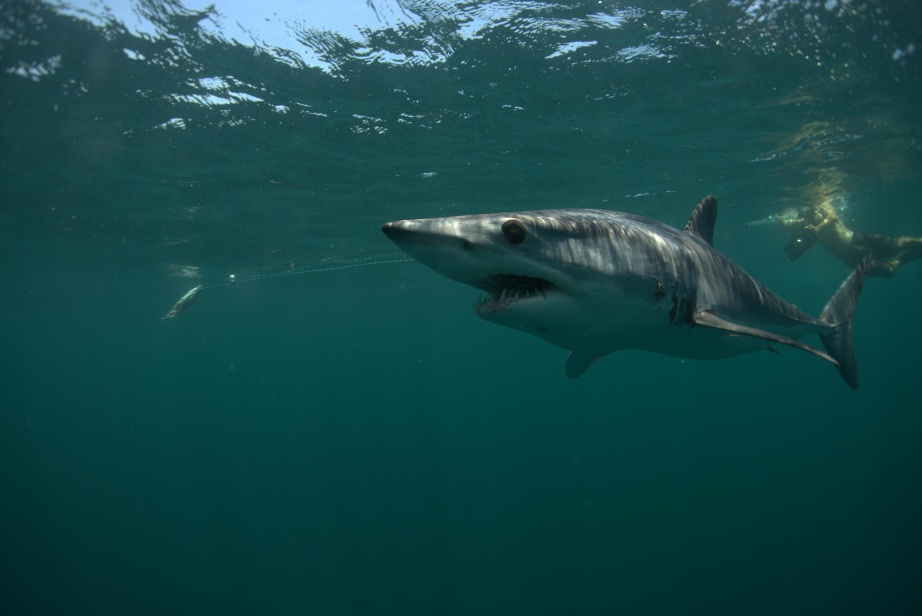Mako: (360, 175, 881, 411)
